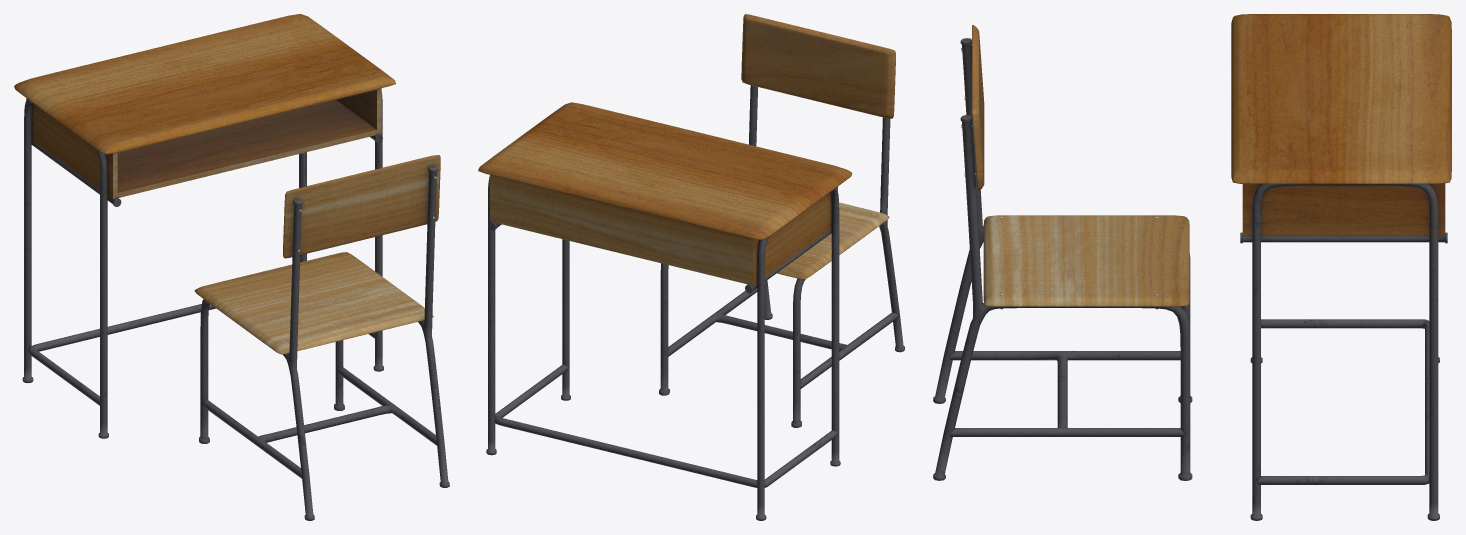
Rendered from chair_and_table_school.glb.
3 views of the same model, side by side, from view 1: azimuth 30°, elevation 25°; view 2: azimuth 150°, elevation 25°; view 3: azimuth 270°, elevation 25° (orthographic). The views are drawn at different scales.
Visible parts, largest first — view 1: Table ClassRoom, Chair Classroom; view 2: Table ClassRoom, Chair Classroom; view 3: Table ClassRoom, Chair Classroom.
Part boxes in pixels (box(x1,y1,x2,y2)): Table ClassRoom: box(14, 14, 395, 438); Chair Classroom: box(194, 155, 449, 520); Table ClassRoom: box(478, 102, 852, 520); Chair Classroom: box(659, 14, 904, 427); Table ClassRoom: box(1231, 14, 1451, 520); Chair Classroom: box(933, 25, 1192, 480).
Bounding box in the file's own units: 1.18 × 1.22 × 1.55.
1 material, 1 textured.
